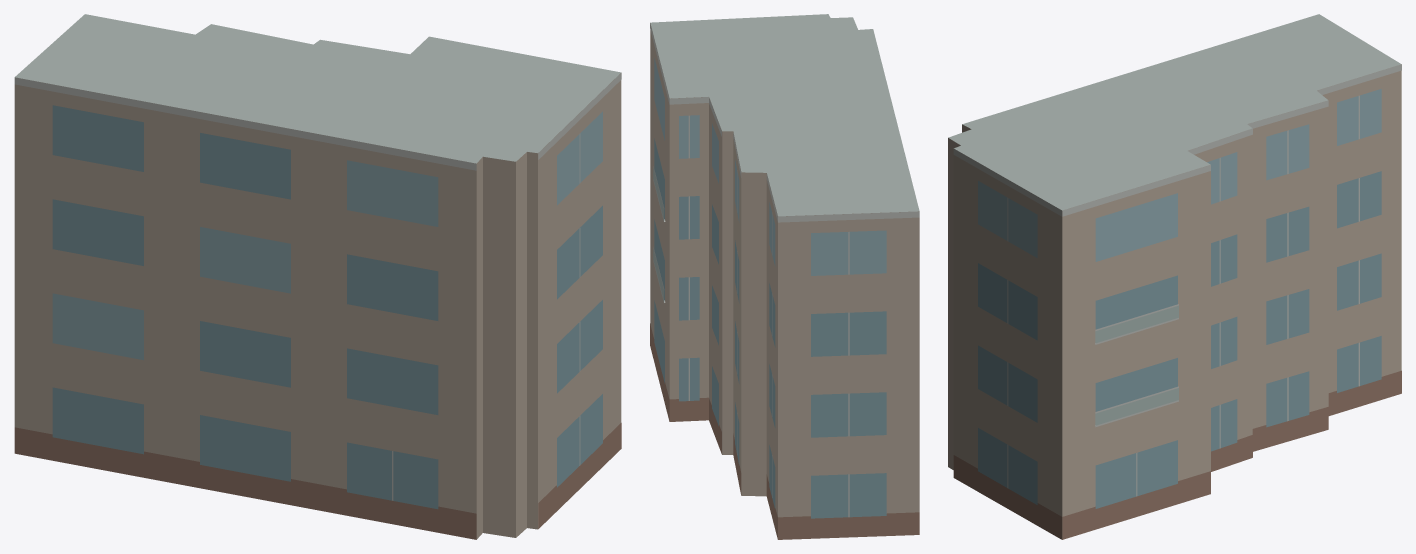
The model's file is survey-upis-32616086.glb.
The picture shows the model from 3 angles, left to right: view 1: azimuth 30°, elevation 25°; view 2: azimuth 150°, elevation 25°; view 3: azimuth 270°, elevation 25°; orthographic projection. The views are drawn at different scales.
Visible parts, largest first — view 1: survey-upis-32616086.tmp; view 2: survey-upis-32616086.tmp; view 3: survey-upis-32616086.tmp.
Boxes of the visible parts, <box> form: survey-upis-32616086.tmp: <box>14,14,621,539</box>; survey-upis-32616086.tmp: <box>650,14,919,539</box>; survey-upis-32616086.tmp: <box>948,14,1401,539</box>.
Bounding box in the file's own units: 16.39 × 12.8 × 15.98.
